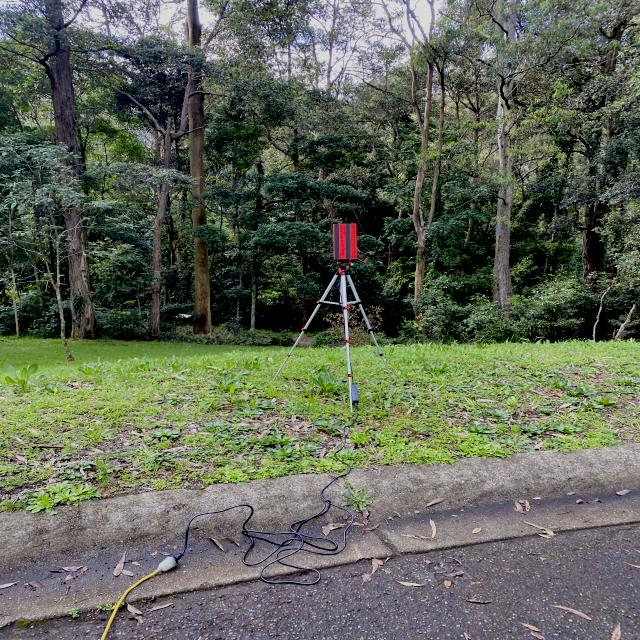matrix: (330, 222, 364, 260)
